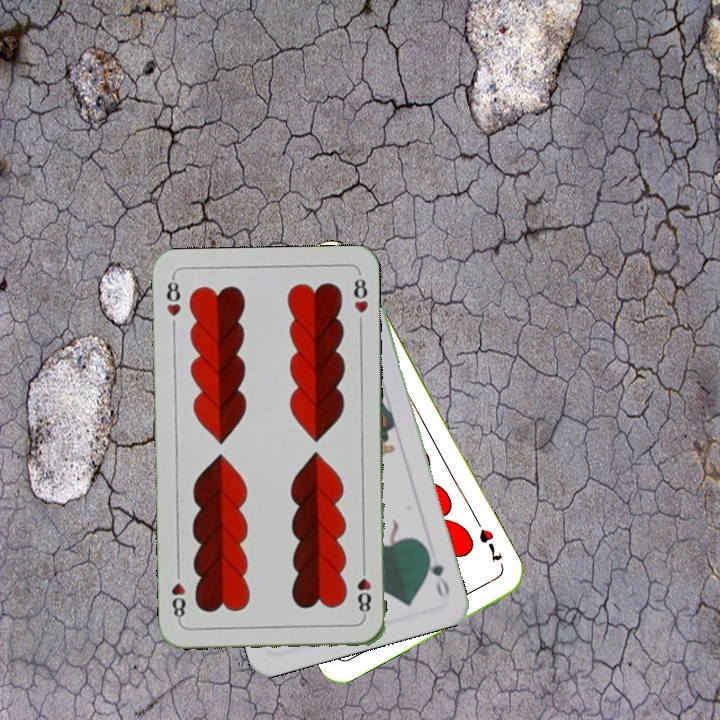GO: (421, 545, 452, 600)
H7: (475, 525, 505, 565)
H8: (353, 560, 374, 619), (162, 274, 184, 319)
